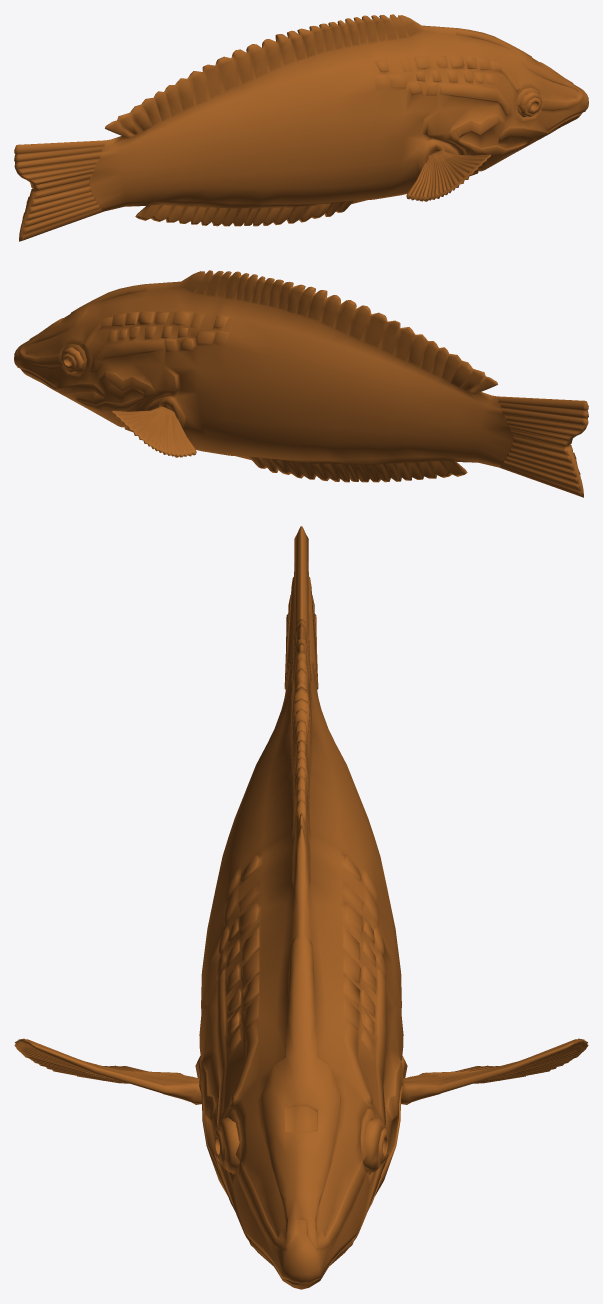
Rendered from pez.obj.
3 renders of one model, top to bottom at view 1: azimuth 30°, elevation 25°; view 2: azimuth 150°, elevation 25°; view 3: azimuth 270°, elevation 25°, orthographic. The views are drawn at different scales.
Visible parts, largest first — view 1: main_polySurface633_group1; view 2: main_polySurface633_group1; view 3: main_polySurface633_group1.
Boxes of the visible parts, x1,y1,x2,y2 form: main_polySurface633_group1: [14, 14, 588, 241]; main_polySurface633_group1: [14, 270, 588, 497]; main_polySurface633_group1: [14, 526, 588, 1289].
Bounding box in the file's own units: 8.25 × 2.69 × 3.58.
